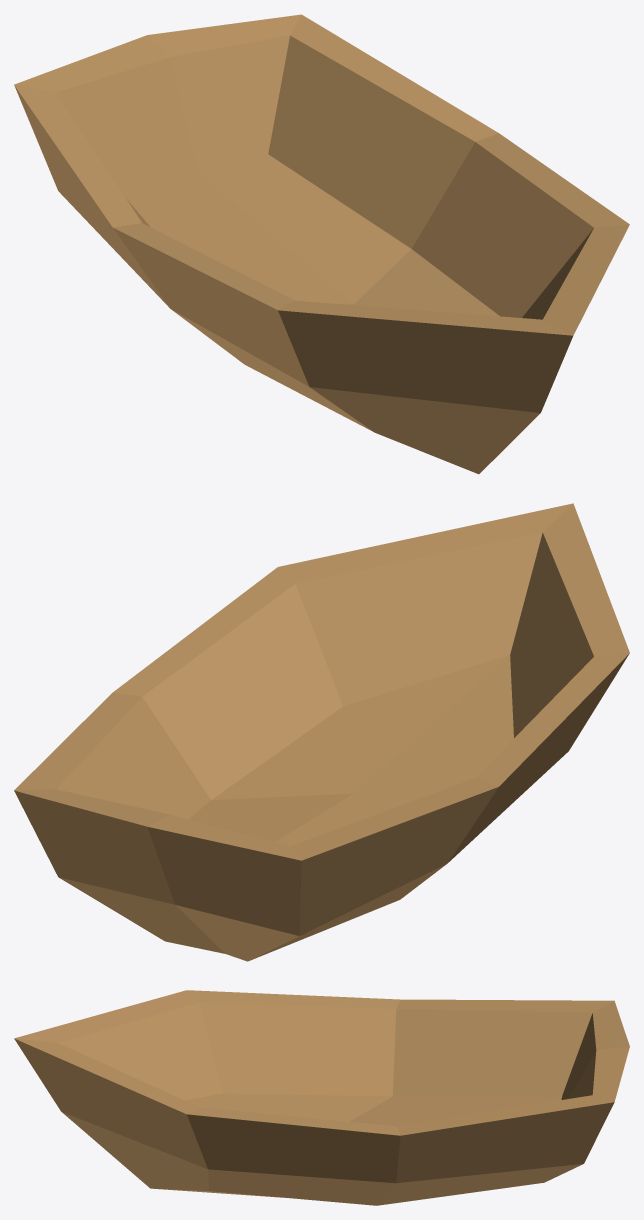
Rendered from boat_0.glb.
3 renders of one model, top to bottom at view 1: azimuth 30°, elevation 25°; view 2: azimuth 150°, elevation 25°; view 3: azimuth 270°, elevation 25°, orthographic. The views are drawn at different scales.
Parts seen in each view (by area): view 1: Boat; view 2: Boat; view 3: Boat.
Part boxes in pixels (box(x1,y1,x2,y2)): Boat: box(14, 14, 629, 474); Boat: box(14, 503, 629, 961); Boat: box(14, 990, 629, 1205).
Bounding box in the file's own units: 1.34 × 0.7454 × 2.56.
